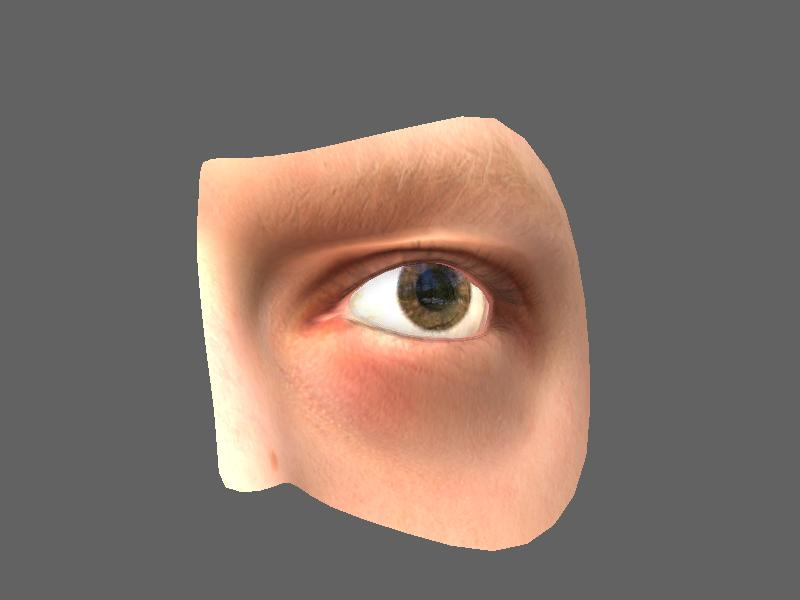iris: (395, 261, 480, 332)
